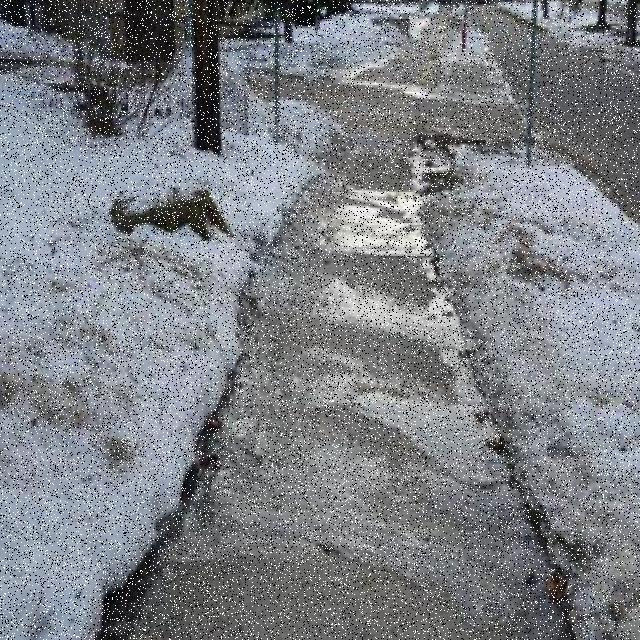clear-road: (536, 35, 640, 220), (475, 4, 531, 106)
ice-road: (217, 345, 538, 570), (312, 271, 484, 406), (336, 190, 430, 257)
